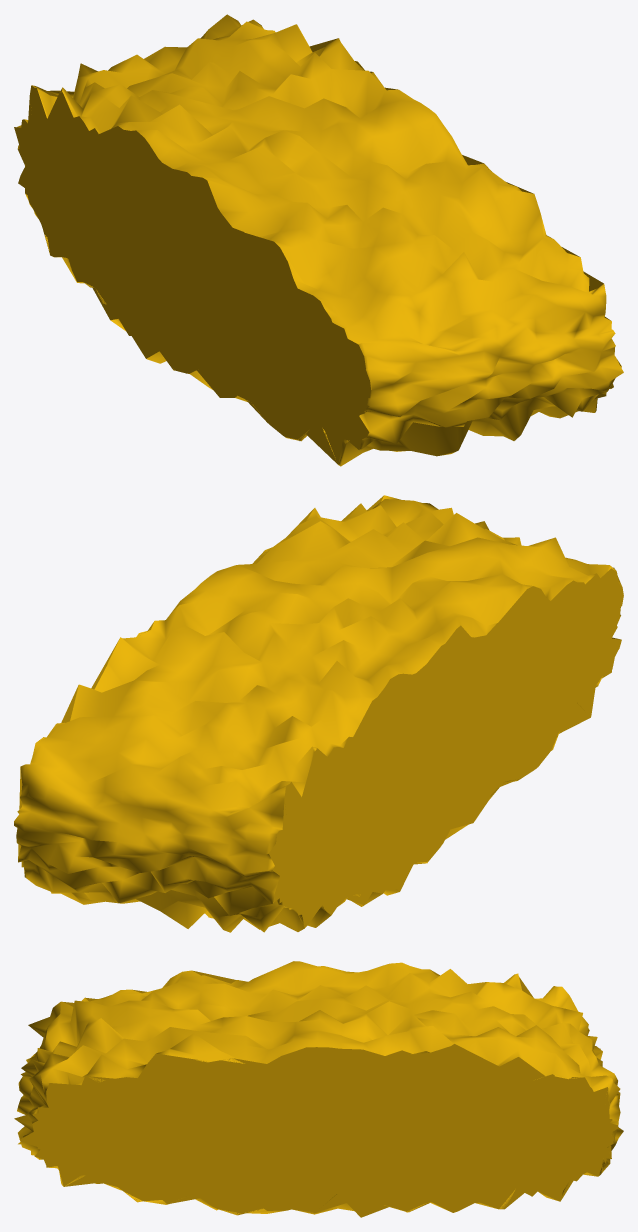
Rendered from 切ったチキン2.fbx.
The picture shows the model from 3 angles, top to bottom: view 1: azimuth 30°, elevation 25°; view 2: azimuth 150°, elevation 25°; view 3: azimuth 270°, elevation 25°; orthographic projection. The views are drawn at different scales.
Visible parts, largest first — view 1: オブジェクト; view 2: オブジェクト; view 3: オブジェクト.
Boxes of the visible parts, box(x1,y1,x2,y2) form: オブジェクト: box(14, 14, 623, 466); オブジェクト: box(14, 495, 623, 932); オブジェクト: box(14, 961, 623, 1217).
Size of the model in its own units: 0.602 by 0.5962 by 1.76.
